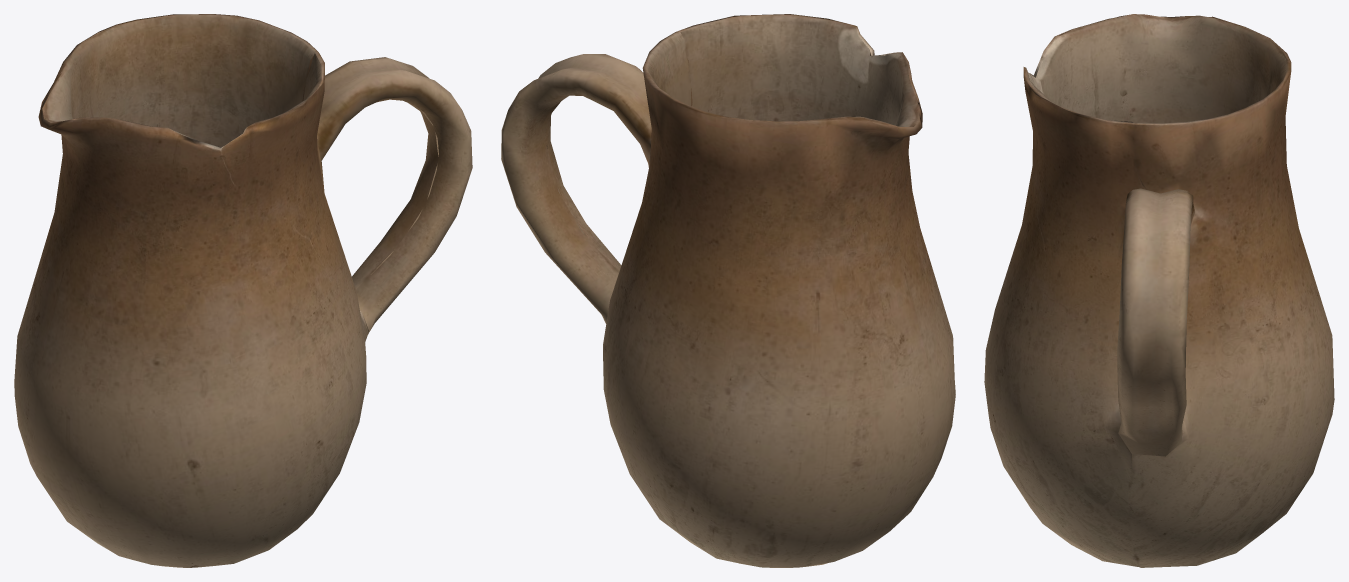
Rendered from Pot.fbx.
The picture shows the model from 3 angles, left to right: view 1: azimuth 30°, elevation 25°; view 2: azimuth 150°, elevation 25°; view 3: azimuth 270°, elevation 25°; orthographic projection.
Visible parts, largest first — view 1: Prop; view 2: Prop; view 3: Prop.
Part boxes in pixels (x1,y1,x2,y2): Prop: (14, 14, 472, 567); Prop: (501, 14, 955, 567); Prop: (984, 14, 1334, 567).
Bounding box in the file's own units: 1.92 × 2 × 1.36.
Materials: 1 (1 with a texture image).
